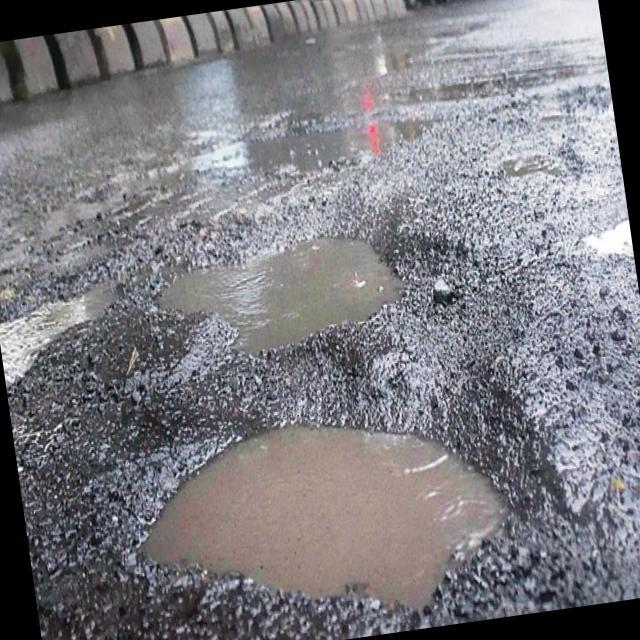Pothole: (88, 366, 556, 640), (147, 200, 429, 380), (0, 256, 131, 391), (562, 190, 635, 270)
